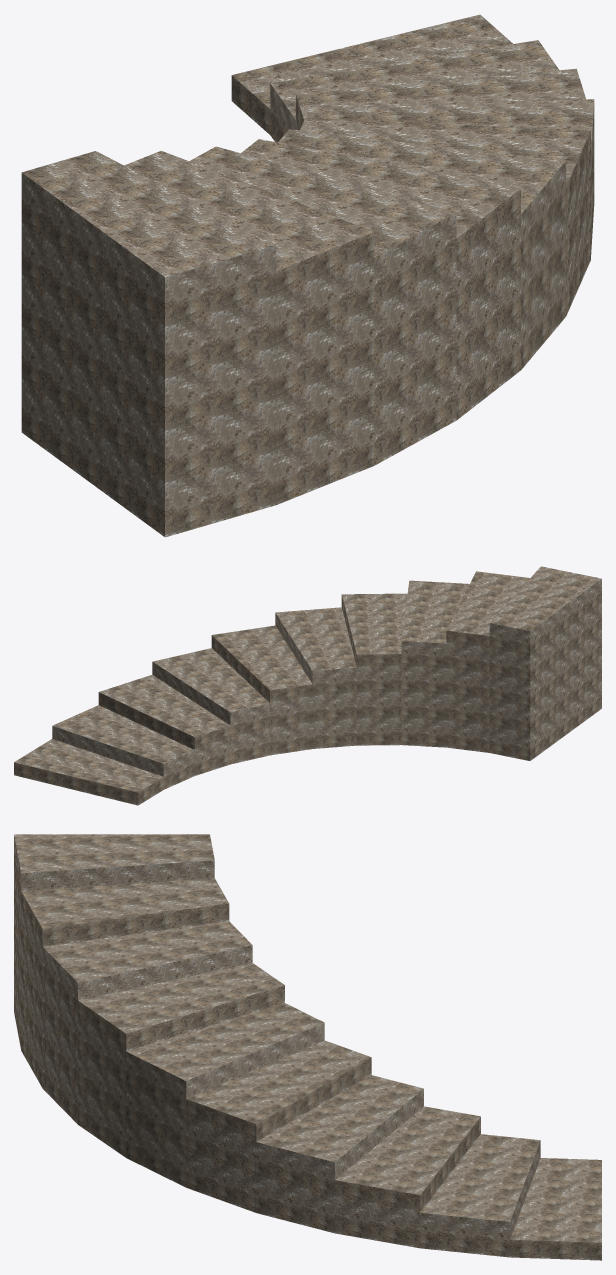
The picture shows the model from 3 angles, top to bottom: view 1: azimuth 30°, elevation 25°; view 2: azimuth 150°, elevation 25°; view 3: azimuth 270°, elevation 25°; orthographic projection. The views are drawn at different scales.
Parts seen in each view (by area): view 1: TexturesCom_ConcreteRough0076_1_seamless_S; view 2: TexturesCom_ConcreteRough0076_1_seamless_S; view 3: TexturesCom_ConcreteRough0076_1_seamless_S.
Boxes of the visible parts, x1,y1,x2,y2 form: TexturesCom_ConcreteRough0076_1_seamless_S: (21, 14, 594, 537); TexturesCom_ConcreteRough0076_1_seamless_S: (14, 566, 601, 805); TexturesCom_ConcreteRough0076_1_seamless_S: (14, 834, 601, 1260).
Size of the model in its own units: 15 by 5 by 15.
1 material, 1 textured.
